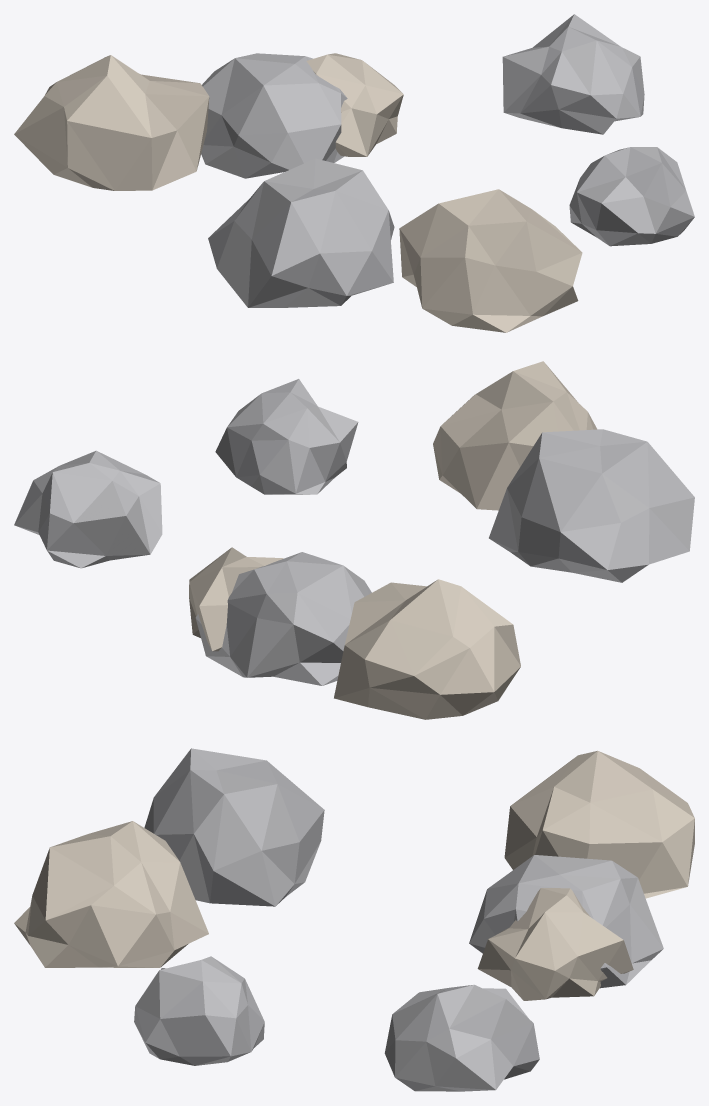
The model's file is pond_rocks.glb.
3 views of the same model, one above another, from view 1: azimuth 30°, elevation 25°; view 2: azimuth 150°, elevation 25°; view 3: azimuth 270°, elevation 25° (orthographic). The views are drawn at different scales.
Parts seen in each view (by area): view 1: PondRocks; view 2: PondRocks; view 3: PondRocks.
Boxes of the visible parts, x1=… form: PondRocks: x1=14, y1=14, x2=694, y2=332; PondRocks: x1=14, y1=361, x2=694, y2=719; PondRocks: x1=14, y1=748, x2=694, y2=1091.
Size of the model in its own units: 1.94 by 0.4052 by 2.01.
